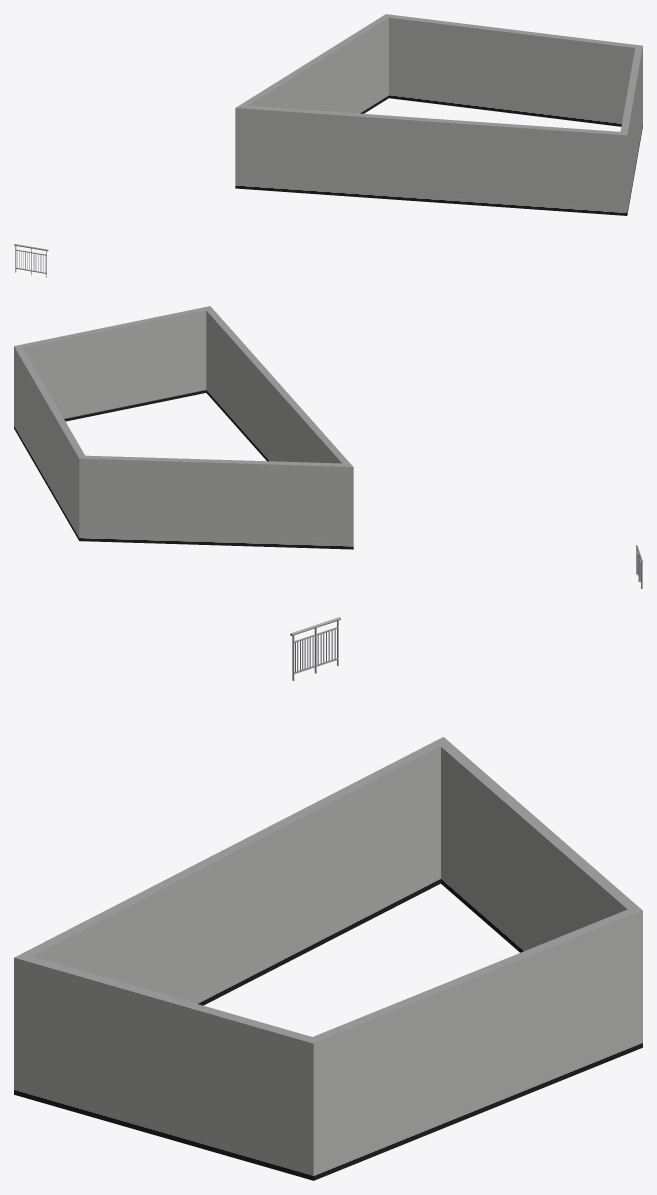
3 renders of one model, top to bottom at view 1: azimuth 30°, elevation 25°; view 2: azimuth 150°, elevation 25°; view 3: azimuth 270°, elevation 25°, orthographic. The views are drawn at different scales.
Visible parts, largest first — view 1: node_CombineStraightWall_-87592, node_CombinePrefabWall_-87616; view 2: node_CombineStraightWall_-87592; view 3: node_CombineStraightWall_-87592, node_CombinePrefabWall_-87616.
Part boxes in pixels (<box>): node_CombineStraightWall_-87592: <box>235,14,642,215</box>; node_CombinePrefabWall_-87616: <box>14,244,48,277</box>; node_CombineStraightWall_-87592: <box>14,306,353,549</box>; node_CombineStraightWall_-87592: <box>14,737,642,1180</box>; node_CombinePrefabWall_-87616: <box>290,617,340,680</box>.
Size of what is drawn, in the model's own units: 24.23 by 3 by 12.48.
3 materials, 3 textured.
